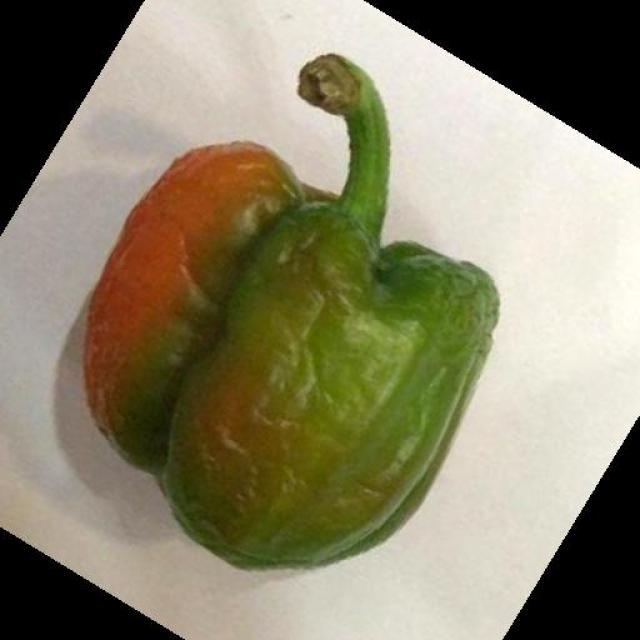Stale_Capsicum: (90, 56, 460, 547)
